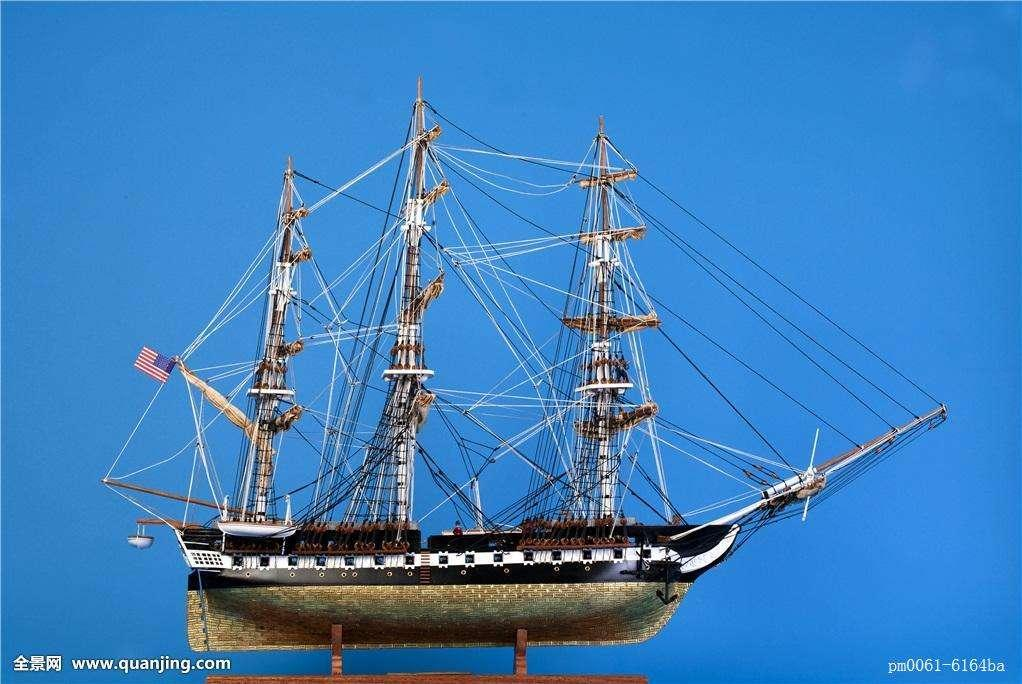fanchuan: (101, 73, 951, 655)
